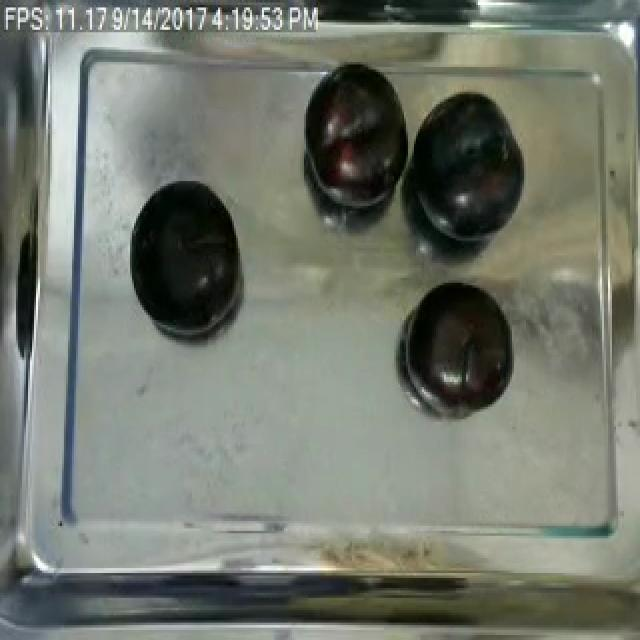Fruit: (124, 171, 248, 340), (402, 84, 528, 248), (304, 59, 412, 211), (402, 278, 518, 412)
